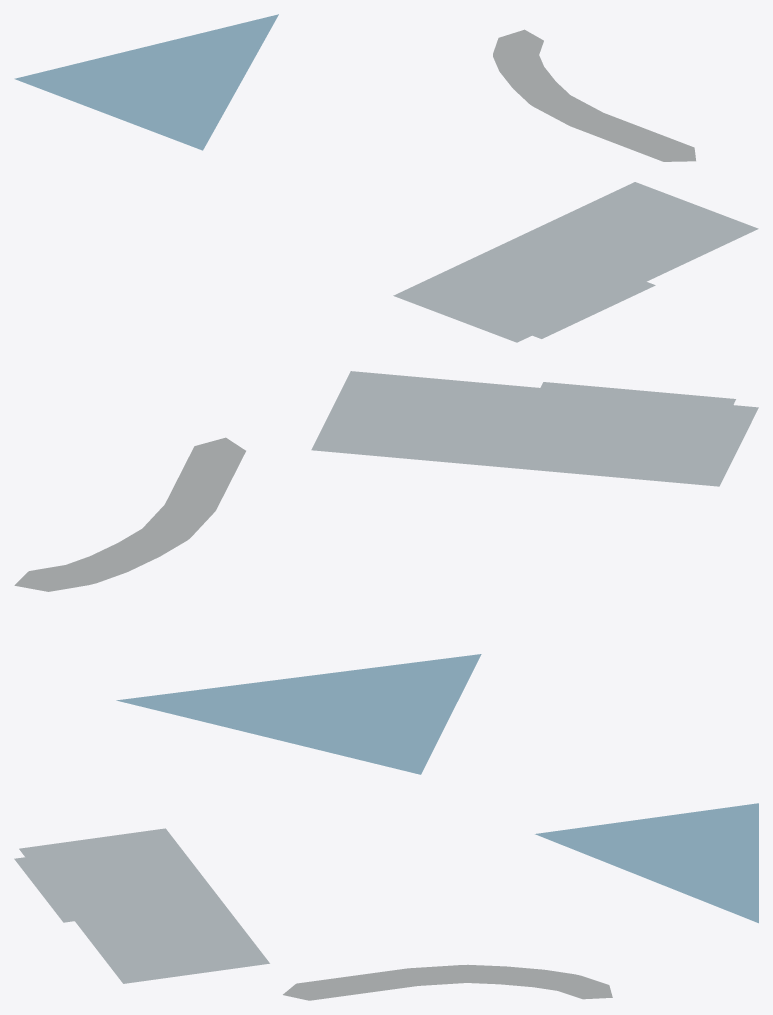
The model's file is -17_-7-known-coarse.glb.
3 views of the same model, one above another, from view 1: azimuth 30°, elevation 25°; view 2: azimuth 150°, elevation 25°; view 3: azimuth 270°, elevation 25° (orthographic). The views are drawn at different scales.
Bounding box in the file's own units: 32.95 × 0.15 × 52.14.
